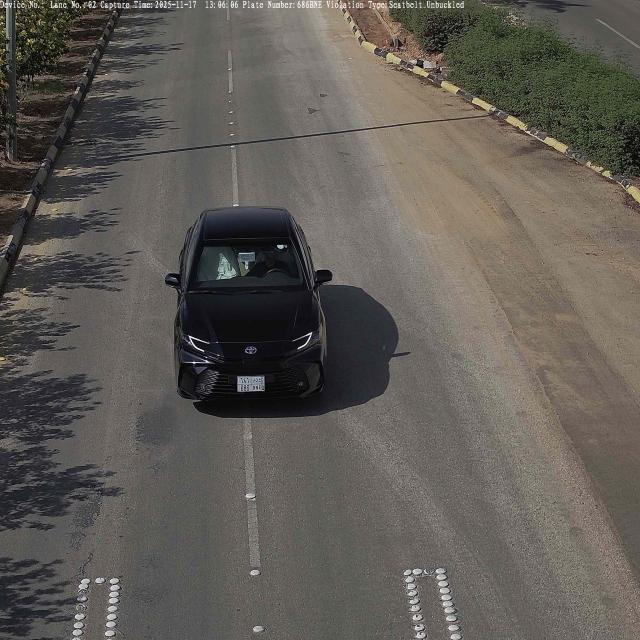person_without_seatbelt: (252, 243, 292, 280)
